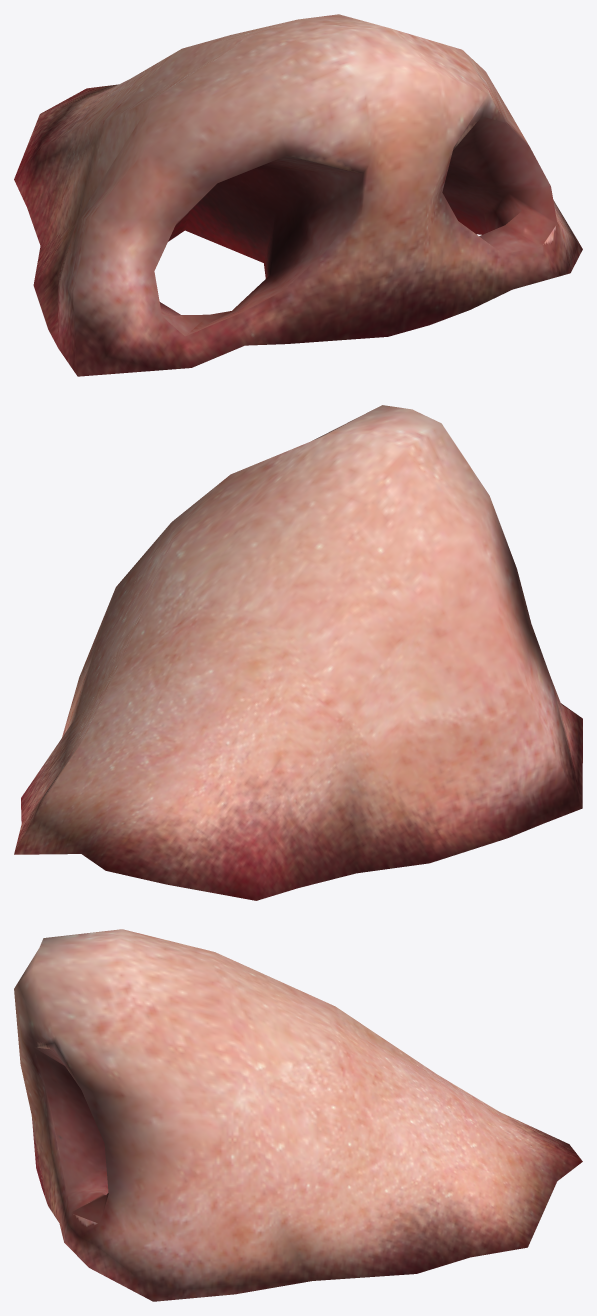
Rendered from Nose_3_low.fbx.
The picture shows the model from 3 angles, top to bottom: view 1: azimuth 30°, elevation 25°; view 2: azimuth 150°, elevation 25°; view 3: azimuth 270°, elevation 25°; orthographic projection. The views are drawn at different scales.
Visible parts, largest first — view 1: nose_3_low; view 2: nose_3_low; view 3: nose_3_low.
Part boxes in pixels (x1=…): nose_3_low: x1=14, y1=14, x2=582, y2=376; nose_3_low: x1=14, y1=405, x2=582, y2=900; nose_3_low: x1=14, y1=929, x2=582, y2=1301.
Bounding box in the file's own units: 0.042 × 0.025 × 0.0479.
